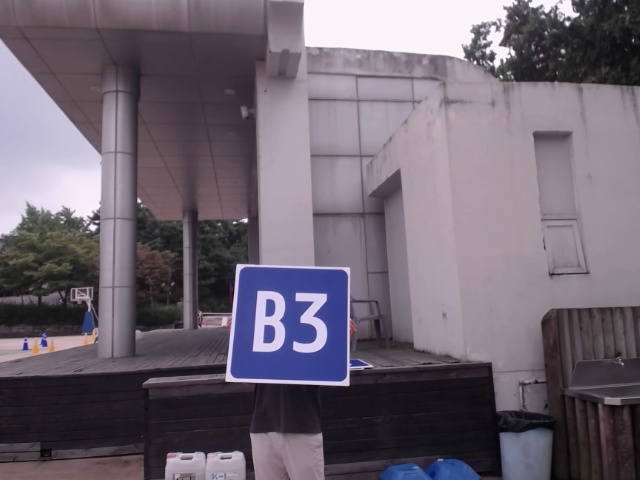delivery_b3: (233, 263, 350, 382)
